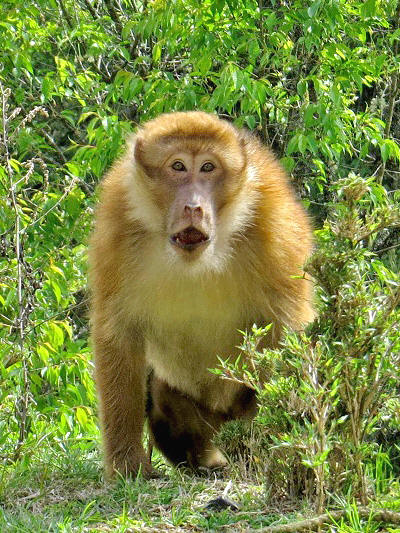monkey: (84, 106, 318, 489)
